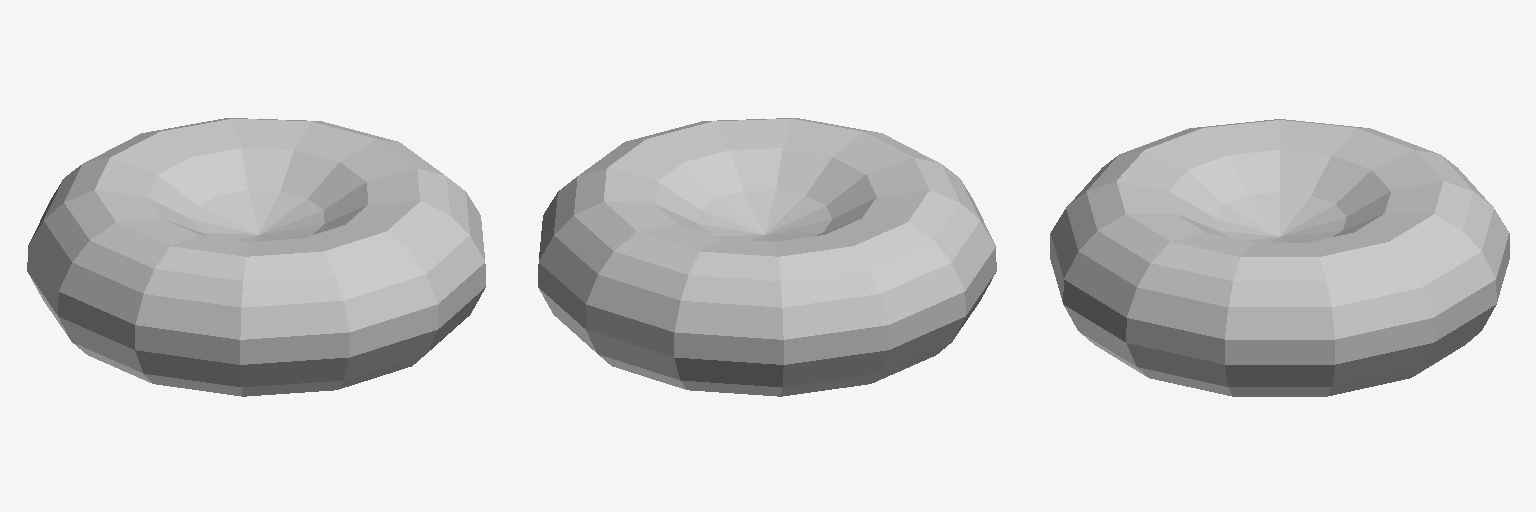
File: reactor_surface.obj
3 views of the same model, side by side, from view 1: azimuth 30°, elevation 25°; view 2: azimuth 150°, elevation 25°; view 3: azimuth 270°, elevation 25° (orthographic).
Parts seen in each view (by area): view 1: surface; view 2: surface; view 3: surface.
Boxes of the visible parts, x1,y1,x2,y2 form: surface: [27, 118, 485, 396]; surface: [538, 118, 996, 396]; surface: [1050, 119, 1509, 396].
Size of the model in its own units: 1.97 by 0.646 by 1.99.